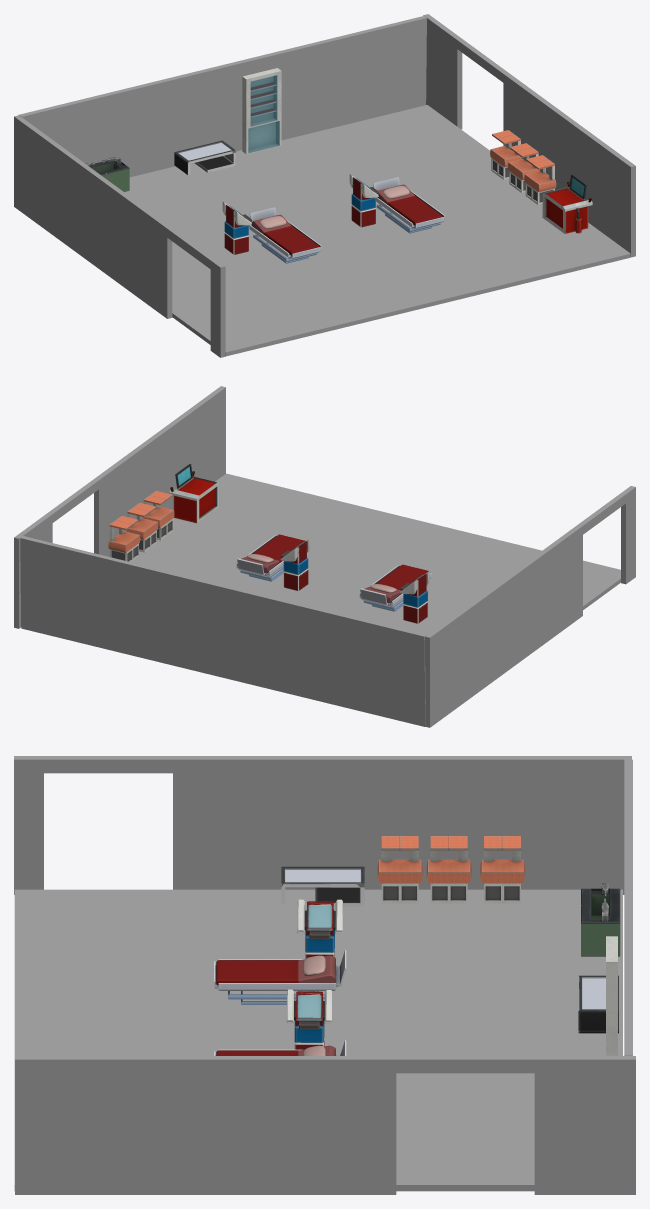
File: Fase3-1.fbx
The picture shows the model from 3 angles, top to bottom: view 1: azimuth 30°, elevation 25°; view 2: azimuth 150°, elevation 25°; view 3: azimuth 270°, elevation 25°; orthographic projection. The views are drawn at different scales.
Parts seen in each view (by area): view 1: CHAO, PAREDE_TRAS, PAREDE_L, PAREDE_R, ARMARIO, MACA, MACA2, MESA_C1, MESA_TIPO3, MESA_U11, HUD1, HUD2 (+3 smaller); view 2: PAREDE_TRAS, CHAO, PAREDE_L, PAREDE_R, MESA_C1, MACA2, MACA, MESA_U9, HUD2, HUD1, MESA_U10, MESA_U11; view 3: CHAO, PAREDE_R, PAREDE_L, MACA, MESA_TIPO4, PAREDE_TRAS, MESA_U8, MESA_U7, MESA_U6, MESA_M, HUD2, HUD1 (+3 smaller).
Part boxes in pixels (x1,y1,x2,y2): CHAO: (124,105,630,356); PAREDE_TRAS: (19,16,426,177); PAREDE_L: (14,115,225,357); PAREDE_R: (423,14,635,257); ARMARIO: (242,68,281,154); MACA: (249,207,321,263); MACA2: (373,177,444,233); MESA_C1: (542,174,592,233); MESA_TIPO3: (174,140,235,174); MESA_U11: (524,155,556,204); HUD1: (222,202,251,254); HUD2: (349,174,378,227); PAREDE_TRAS: (20,536,427,726); CHAO: (132,473,620,634); PAREDE_L: (425,486,635,727); PAREDE_R: (14,386,225,628); MESA_C1: (169,464,219,523); MACA2: (236,534,305,581); MACA: (359,564,431,611); MESA_U9: (108,516,140,562); HUD2: (280,538,310,590); HUD1: (400,571,429,623); MESA_U10: (126,503,158,552); MESA_U11: (142,491,174,540); CHAO: (14,889,622,1191); PAREDE_R: (15,1056,635,1194); PAREDE_L: (14,756,631,894); MACA: (214,950,346,1004); MESA_TIPO4: (281,866,364,906); PAREDE_TRAS: (624,759,632,1055); MESA_U8: (377,836,422,903); MESA_U7: (426,836,471,903); MESA_U6: (480,836,524,903); MESA_M: (581,883,620,956); HUD2: (286,989,331,1049); HUD1: (297,899,342,958).
Bounding box in the file's own units: 31.05 × 6.47 × 26.88.
Materials: 10 (7 with a texture image).
